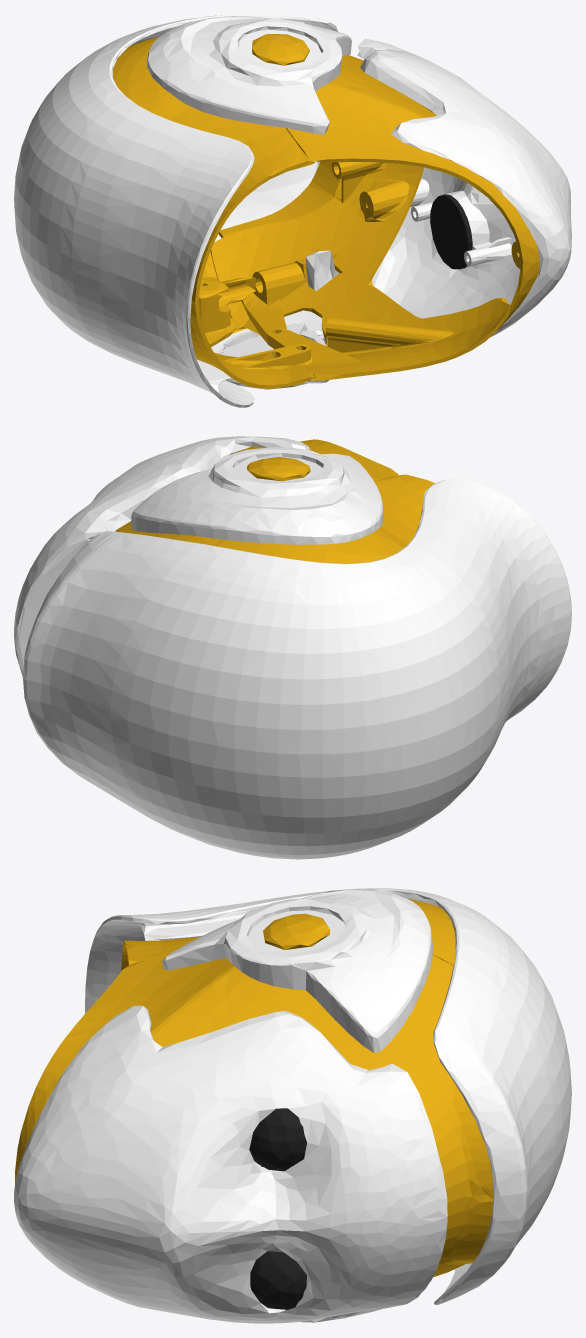
Rendered from head_2.dae.
3 renders of one model, top to bottom at view 1: azimuth 30°, elevation 25°; view 2: azimuth 150°, elevation 25°; view 3: azimuth 270°, elevation 25°, orthographic. The views are drawn at different scales.
Parts seen in each view (by area): view 1: head_2; view 2: head_2; view 3: head_2.
Boxes of the visible parts, x1=… form: head_2: x1=14, y1=14, x2=571, y2=407; head_2: x1=14, y1=436, x2=571, y2=859; head_2: x1=14, y1=888, x2=571, y2=1323.
Bounding box in the file's own units: 0.2674 × 0.2518 × 0.1894.
